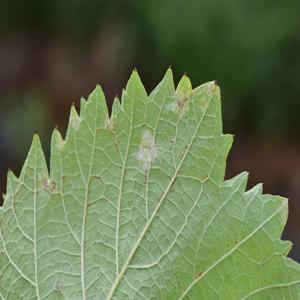Folha: (0, 60, 300, 299)
Fungo: (136, 129, 158, 171), (174, 86, 190, 116), (54, 124, 66, 152), (41, 174, 56, 194), (106, 116, 117, 132), (176, 96, 187, 110), (41, 174, 49, 190), (49, 180, 56, 193), (55, 281, 63, 291), (195, 271, 202, 278), (234, 240, 238, 244), (226, 243, 228, 247)
